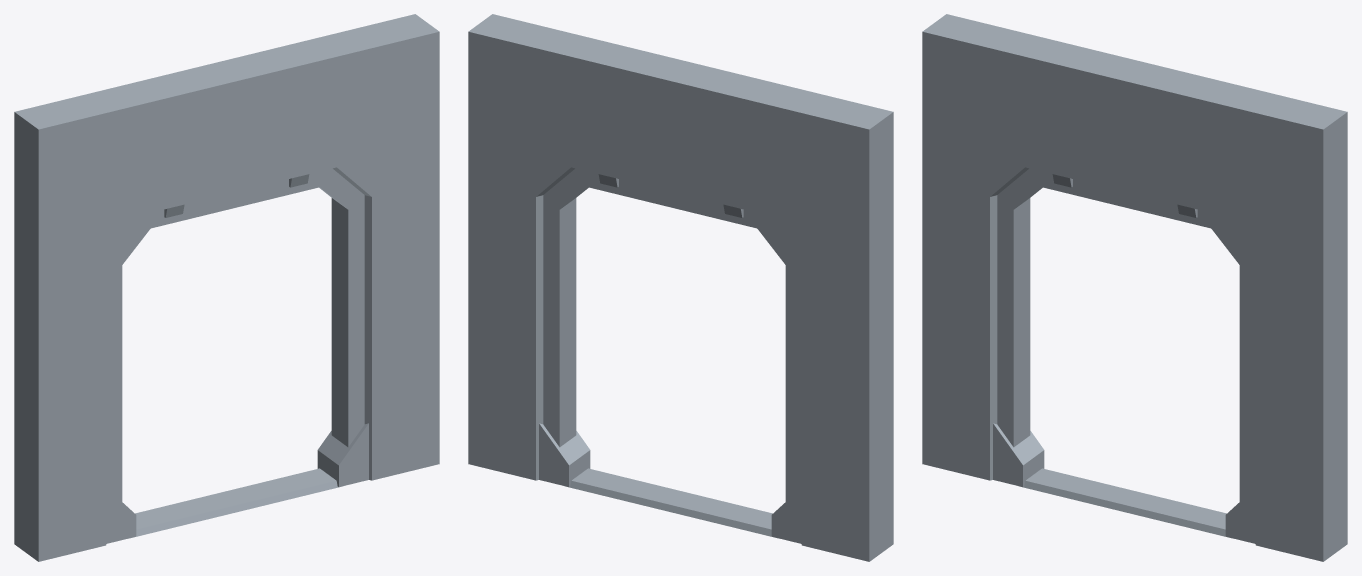
File: Door_Frame_Square.gltf
3 renders of one model, left to right at view 1: azimuth 30°, elevation 25°; view 2: azimuth 150°, elevation 25°; view 3: azimuth 330°, elevation 25°, orthographic.
Parts seen in each view (by area): view 1: Door_Frame_Square; view 2: Door_Frame_Square; view 3: Door_Frame_Square.
Boxes of the visible parts, bbox=[...] form: Door_Frame_Square: bbox=[14, 14, 439, 561]; Door_Frame_Square: bbox=[468, 14, 893, 561]; Door_Frame_Square: bbox=[922, 14, 1347, 561].
Size of the model in its own units: 4.85 by 5.01 by 0.5068.
Materials: 1 (1 with a texture image).
